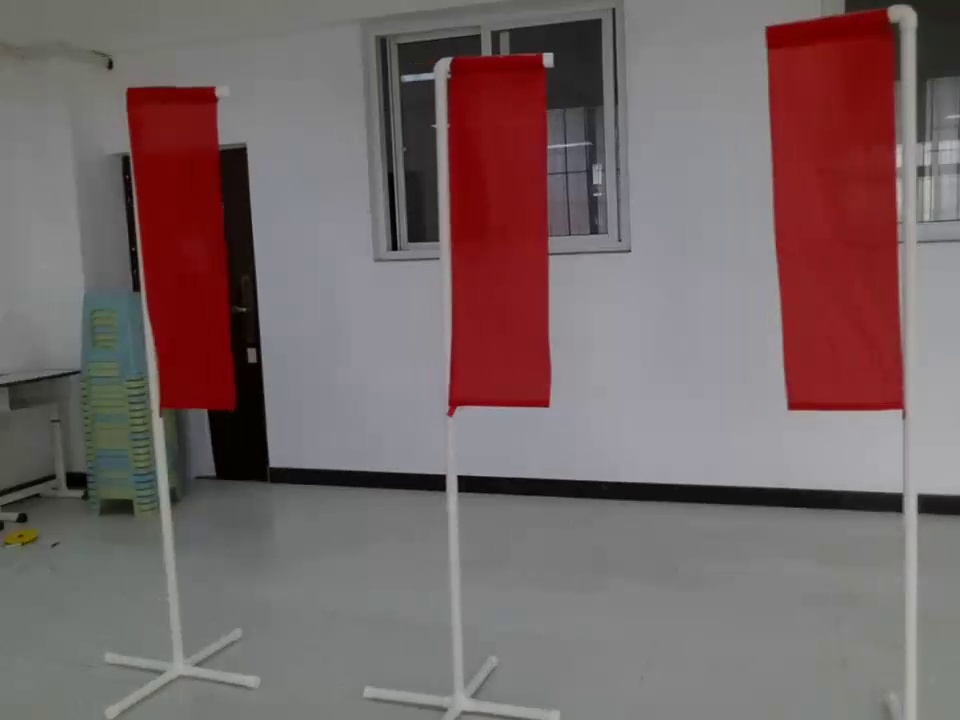qi: (763, 1, 924, 424), (425, 30, 550, 427), (120, 64, 237, 426)
